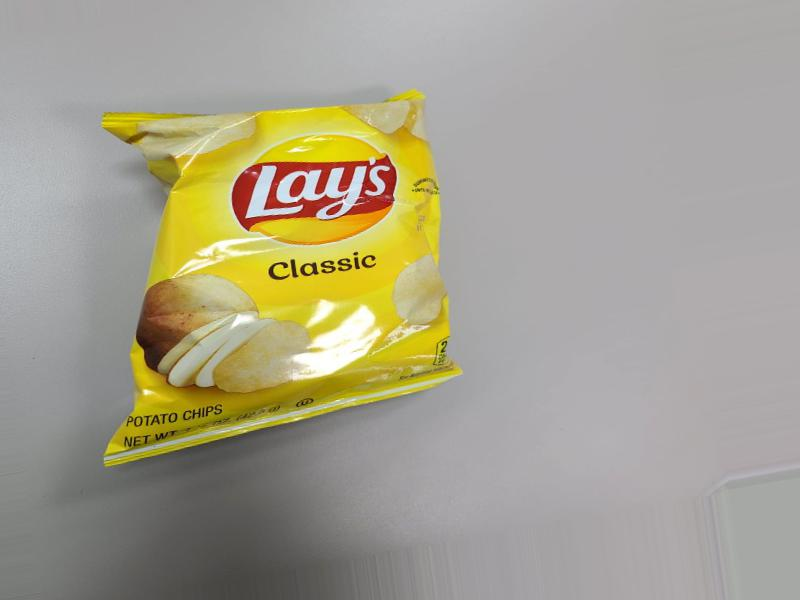lays: (107, 114, 440, 458)
